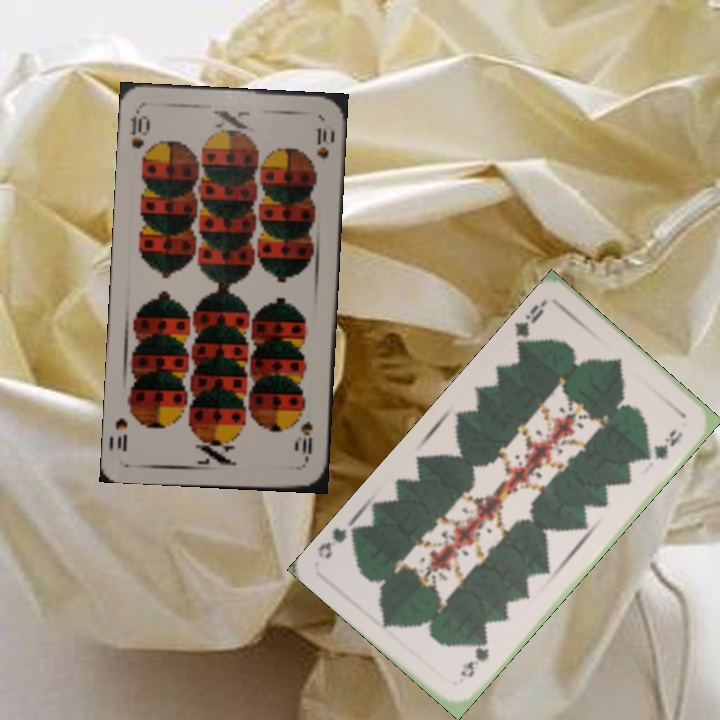G9: (511, 297, 549, 354), (456, 636, 492, 681)
S10: (127, 108, 152, 151), (294, 417, 315, 466)
